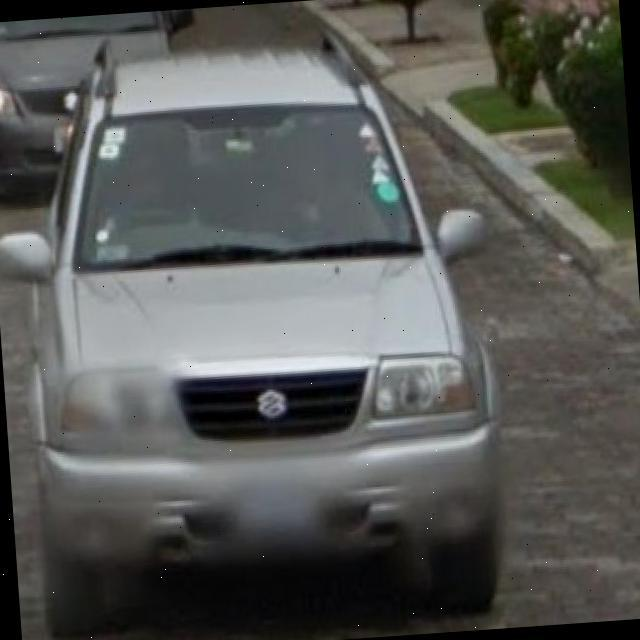car: (20, 55, 486, 621)
